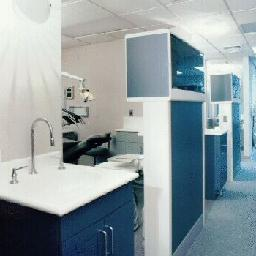Lavamanos: (2, 114, 133, 219)
